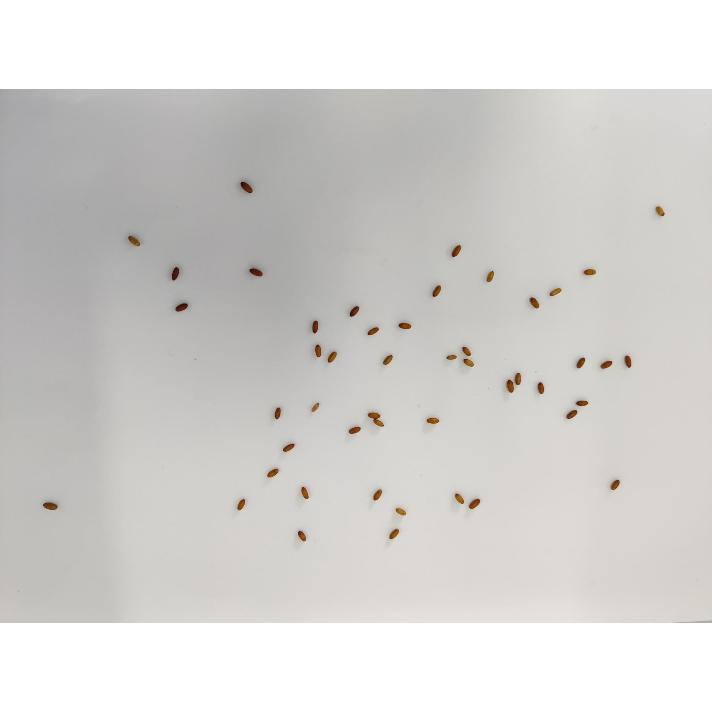pupae: (524, 296, 542, 314), (173, 299, 192, 315), (124, 233, 143, 249), (606, 477, 624, 493), (238, 180, 256, 196), (449, 242, 465, 260), (168, 264, 182, 284), (484, 266, 498, 286), (621, 354, 636, 372), (598, 358, 616, 373), (266, 465, 282, 481), (294, 527, 308, 545), (298, 484, 312, 502), (280, 442, 298, 456), (430, 282, 444, 300), (272, 404, 284, 424), (395, 320, 415, 332), (654, 202, 666, 222), (392, 504, 408, 518), (452, 491, 466, 507), (467, 496, 483, 510), (564, 408, 580, 422), (574, 354, 588, 370), (380, 353, 396, 367), (346, 303, 362, 317), (549, 286, 565, 300), (582, 267, 598, 281), (236, 497, 248, 515), (310, 318, 322, 336), (41, 501, 61, 511), (372, 487, 386, 501), (326, 350, 340, 364), (424, 414, 440, 426), (385, 528, 401, 540), (534, 381, 546, 397), (461, 357, 477, 369), (312, 342, 324, 358), (248, 266, 264, 278), (346, 426, 364, 436), (572, 398, 590, 408), (310, 400, 322, 414), (512, 372, 524, 386), (504, 380, 516, 394), (366, 410, 382, 420), (459, 346, 475, 356), (365, 326, 381, 336), (372, 419, 386, 429), (445, 354, 459, 361)
